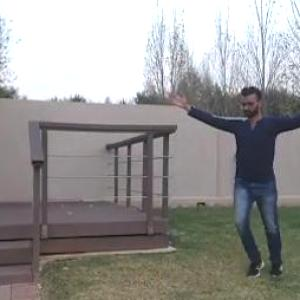takeoff: (158, 85, 300, 274)
